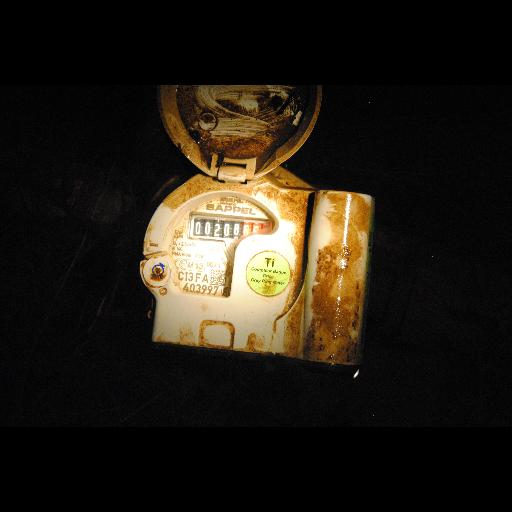0: (194, 218, 205, 236), (222, 221, 233, 239), (203, 220, 214, 237)
2: (212, 220, 223, 238)
6: (242, 222, 253, 242), (251, 223, 262, 238)
8: (231, 222, 243, 241)
border_water_meter_number: (190, 213, 275, 247)
